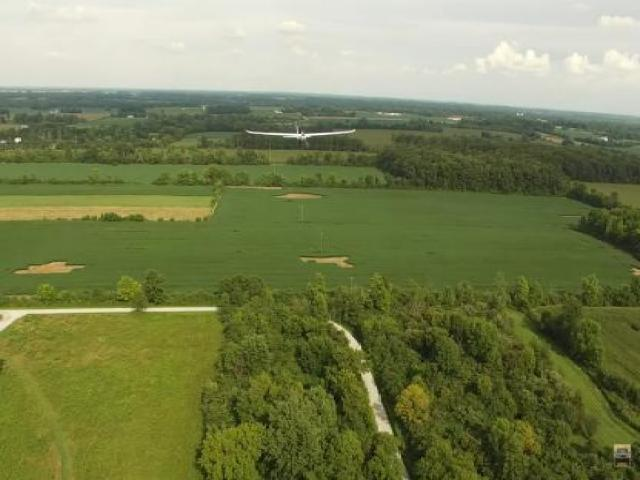uav: (240, 121, 362, 148)
